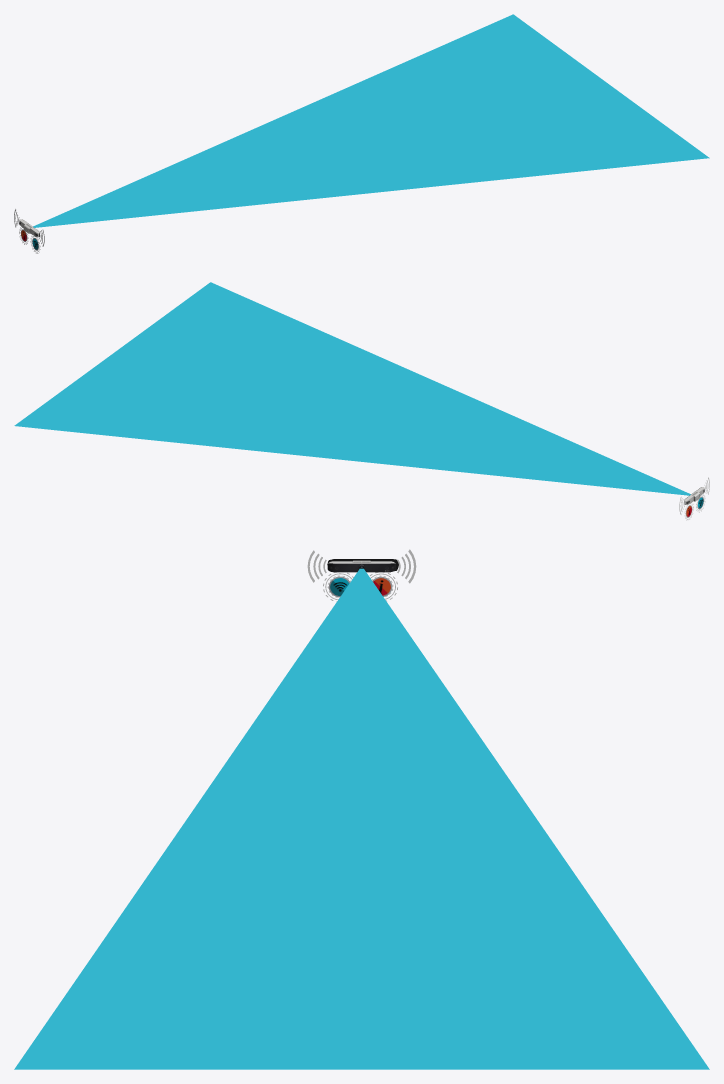
Rendered from LargeProps_PolyStudio_X70.glb.
3 views of the same model, one above another, from view 1: azimuth 30°, elevation 25°; view 2: azimuth 150°, elevation 25°; view 3: azimuth 270°, elevation 25° (orthographic). The views are drawn at different scales.
Parts seen in each view (by area): view 1: Range_LogitechRally_Bar; view 2: Range_LogitechRally_Bar; view 3: Range_LogitechRally_Bar.
Part boxes in pixels (bbox=[...]): Range_LogitechRally_Bar: bbox=[33, 14, 709, 227]; Range_LogitechRally_Bar: bbox=[14, 282, 690, 495]; Range_LogitechRally_Bar: bbox=[14, 568, 709, 1069].
Size of the model in its own units: 11.97 by 0.5877 by 6.96.
9 materials, 4 textured.
